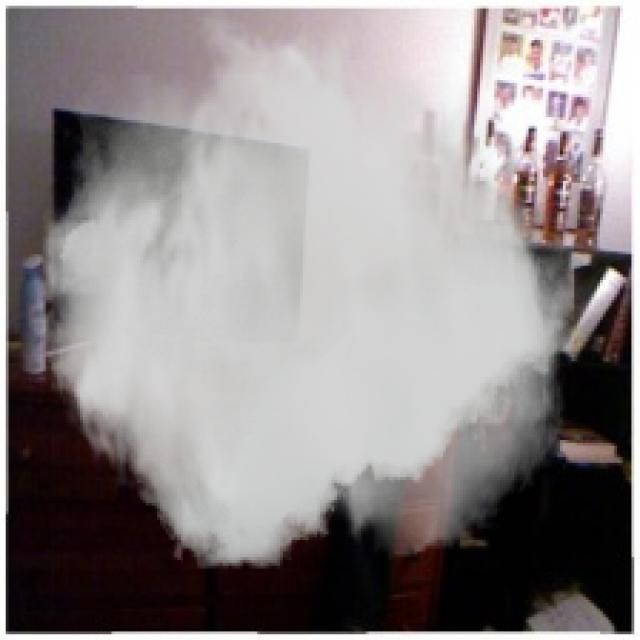smoke: (34, 3, 574, 568)
